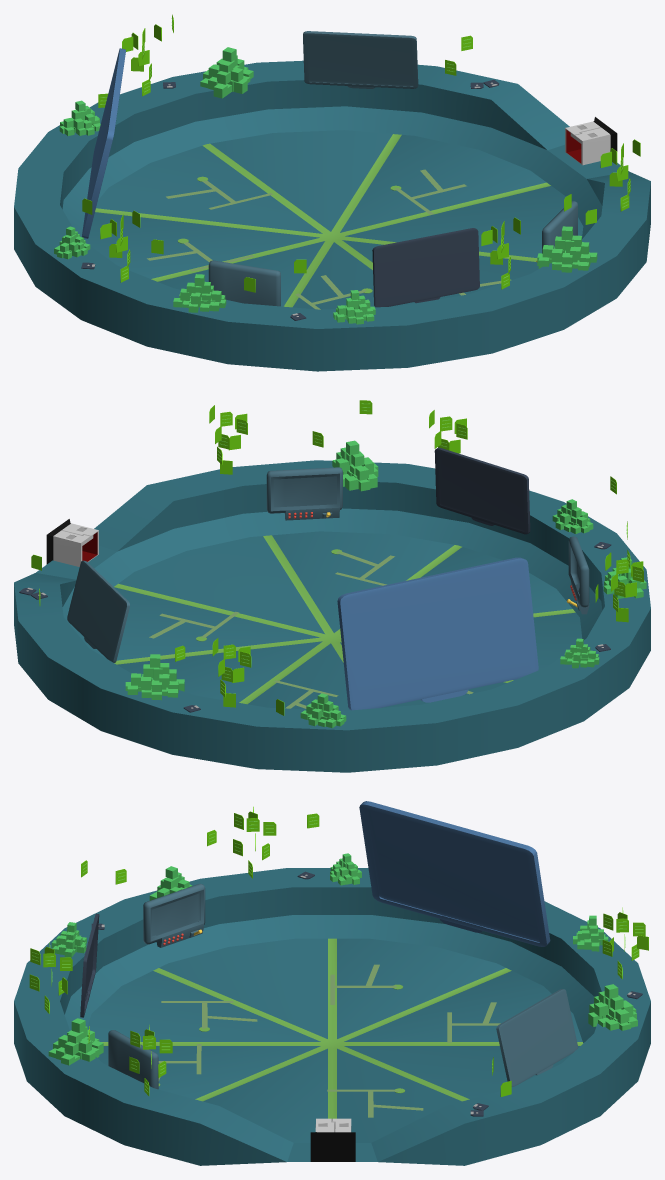
File: Boss_s Room (encryption).fbx
The picture shows the model from 3 angles, top to bottom: view 1: azimuth 30°, elevation 25°; view 2: azimuth 150°, elevation 25°; view 3: azimuth 270°, elevation 25°; orthographic projection.
Visible parts, largest first — view 1: Circle.040, Circle.023, Cube.178, Cube.176, Cube.172, Cube.170, Plane.021, Cube.180, Cube.188, Cube.185, Cube.186, Cube.187 (+7 smaller); view 2: Circle.040, Circle.023, Cube.170, Cube.178, Cube.176, Cube.174, Cube.180, Cube.185, Cube.188, Plane.021, Cube.172, Cube.181 (+7 smaller); view 3: Circle.040, Circle.023, Cube.170, Cube.176, Cube.172, Plane.021, Cube.180, Cube.174, Cube.185, Cube.188, Cube.178, Cube.184 (+7 smaller).
Boxes of the visible parts, x1=… form: Circle.040: x1=14, y1=60, x2=650, y2=371; Circle.023: x1=84, y1=130, x2=583, y2=309; Cube.178: x1=372, y1=228, x2=479, y2=307; Cube.176: x1=303, y1=31, x2=418, y2=88; Cube.172: x1=208, y1=260, x2=280, y2=306; Cube.170: x1=82, y1=48, x2=125, y2=239; Plane.021: x1=147, y1=169, x2=501, y2=309; Cube.180: x1=565, y1=117, x2=617, y2=165; Cube.188: x1=537, y1=226, x2=597, y2=272; Cube.185: x1=200, y1=47, x2=253, y2=98; Cube.186: x1=173, y1=274, x2=226, y2=312; Cube.187: x1=333, y1=290, x2=375, y2=324; Circle.040: x1=14, y1=460, x2=650, y2=772; Circle.023: x1=82, y1=531, x2=582, y2=710; Cube.170: x1=337, y1=557, x2=538, y2=710; Cube.178: x1=434, y1=447, x2=530, y2=534; Cube.176: x1=67, y1=560, x2=129, y2=662; Cube.174: x1=266, y1=467, x2=342, y2=520; Cube.180: x1=46, y1=519, x2=98, y2=566; Cube.185: x1=125, y1=654, x2=184, y2=700; Cube.188: x1=332, y1=440, x2=378, y2=491; Plane.021: x1=149, y1=550, x2=473, y2=708; Cube.172: x1=566, y1=536, x2=589, y2=614; Cube.181: x1=212, y1=638, x2=251, y2=707; Circle.040: x1=14, y1=868, x2=650, y2=1165; Circle.023: x1=87, y1=938, x2=583, y2=1142; Cube.170: x1=359, y1=801, x2=550, y2=946; Cube.176: x1=496, y1=989, x2=577, y2=1086; Cube.172: x1=143, y1=883, x2=205, y2=947; Plane.021: x1=158, y1=964, x2=500, y2=1117; Cube.180: x1=310, y1=1118, x2=355, y2=1161; Cube.174: x1=108, y1=1030, x2=158, y2=1089; Cube.185: x1=588, y1=984, x2=637, y2=1030; Cube.188: x1=48, y1=1018, x2=103, y2=1065; Cube.178: x1=80, y1=913, x2=99, y2=1017; Cube.184: x1=129, y1=1025, x2=172, y2=1095.
Size of the model in its own units: 5519 by 1391 by 5575.
